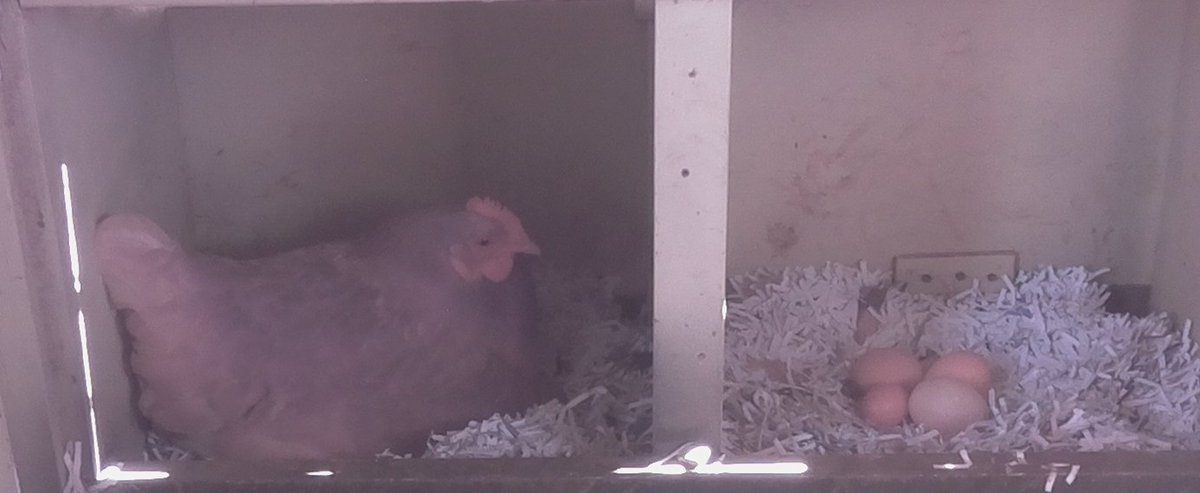egg: (906, 376, 998, 437), (918, 346, 1002, 399), (846, 344, 925, 391), (854, 387, 915, 434)
hen: (87, 187, 579, 453)
